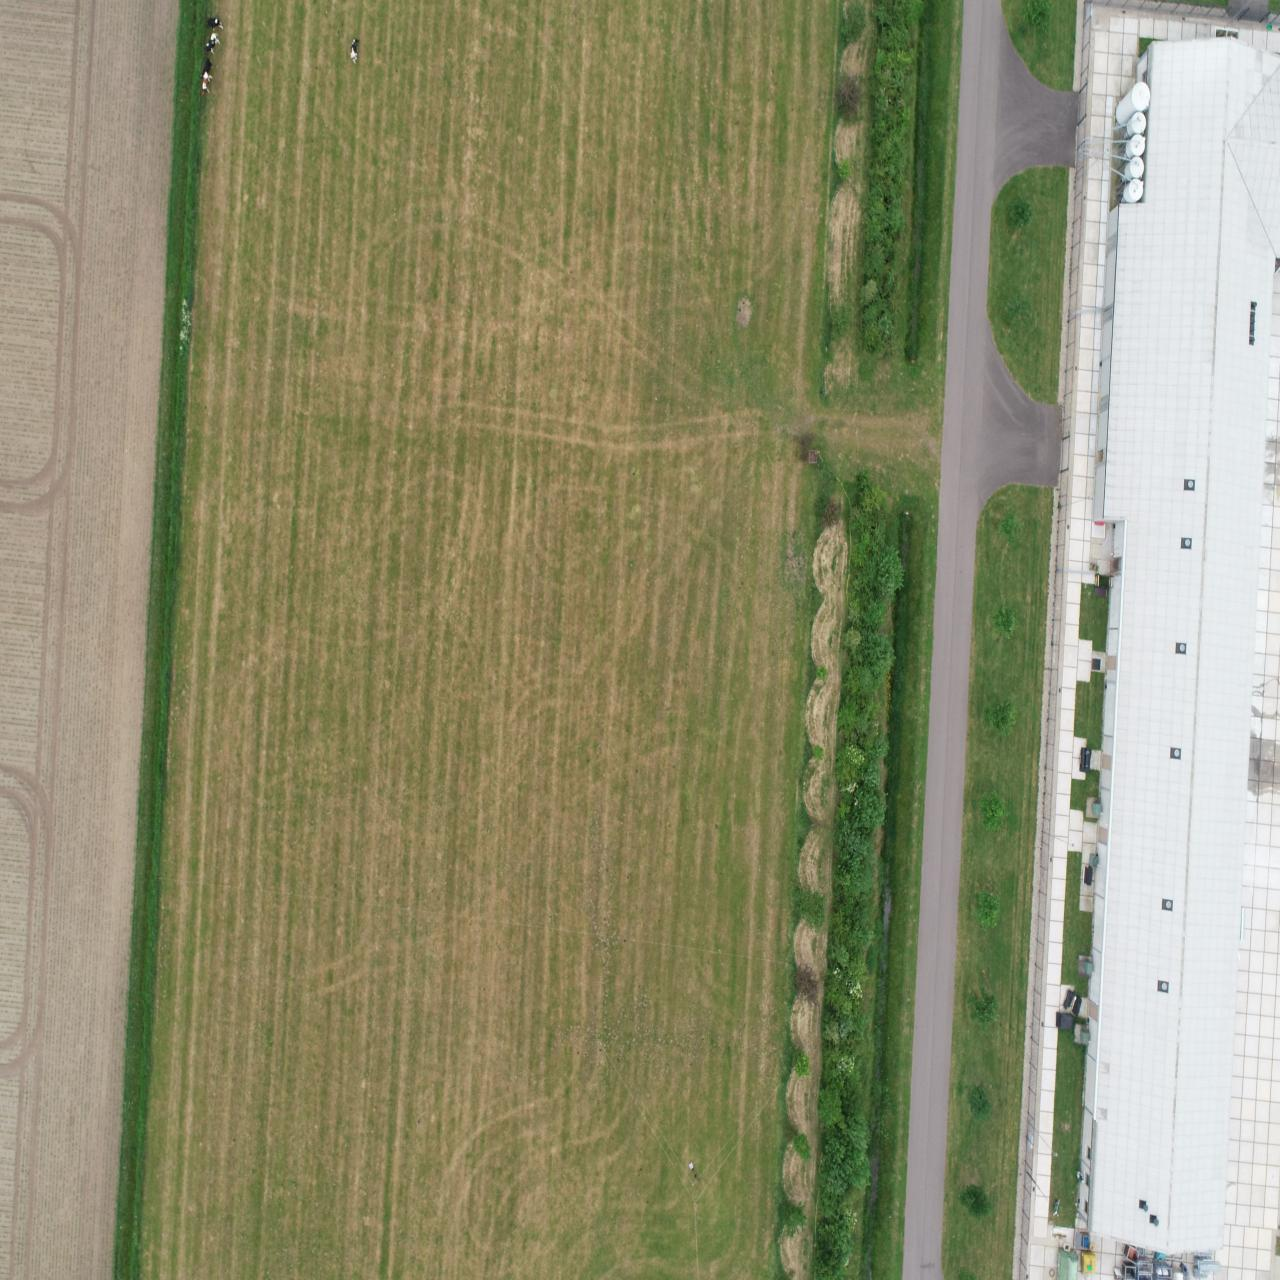cow: (204, 30, 220, 55), (349, 36, 360, 64), (199, 56, 213, 77), (202, 72, 213, 95), (205, 15, 224, 29)
